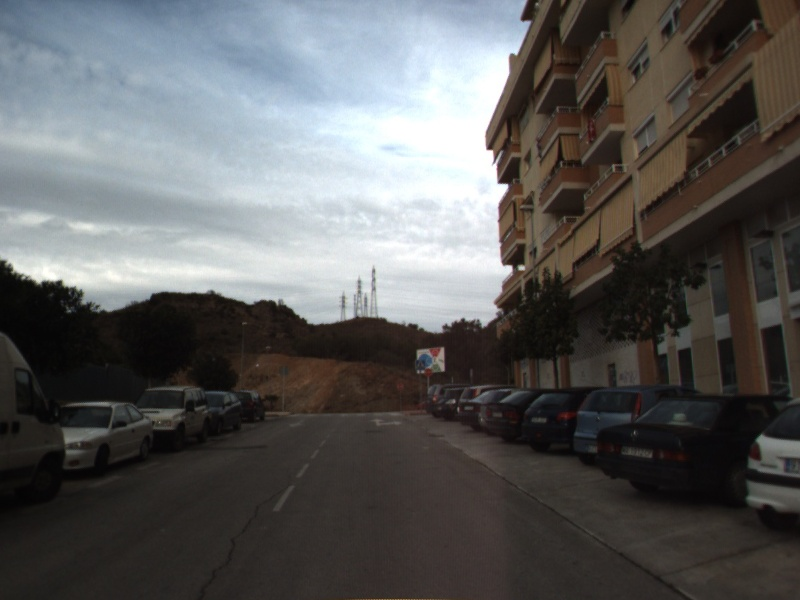STRAIGHT_RIGHT: (368, 417, 404, 428)
